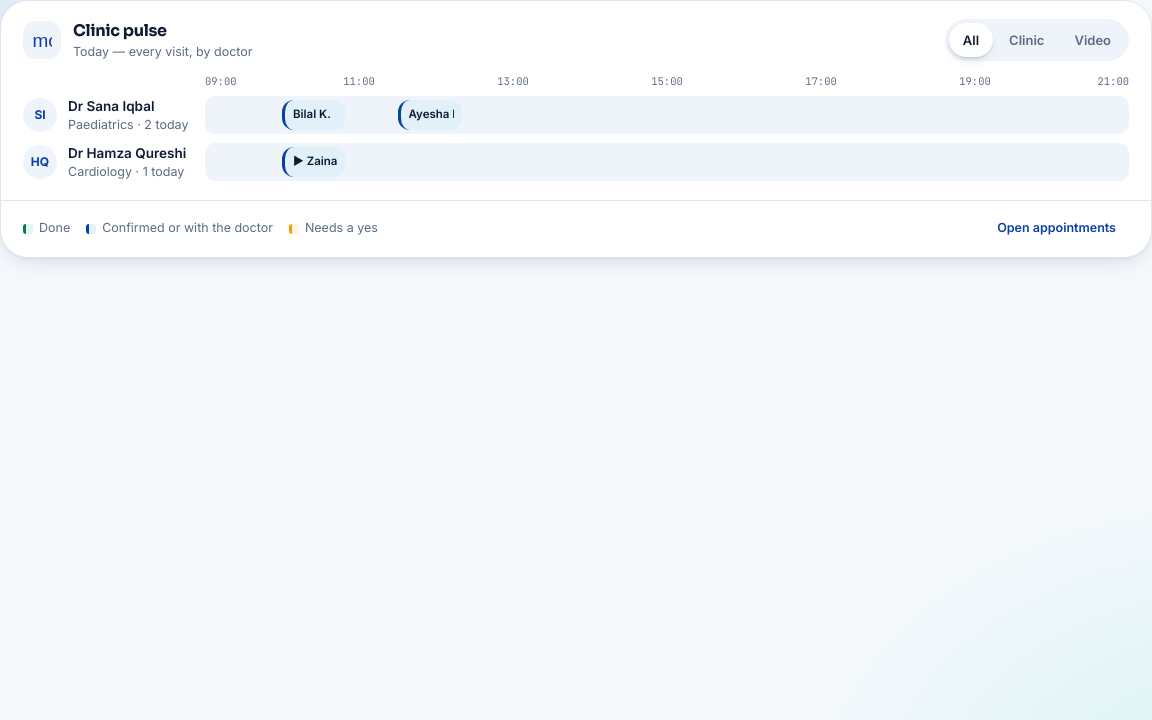
Scenario: ClinicPulse › gives each doctor a lane and each visit its clinic time
Expected: the text "Dr Sana Iqbal" is shown, x1=68 y1=98 x2=154 y2=114
Expected: the text "Dr Hamza Qureshi" is shown, x1=68 y1=143 x2=186 y2=163
// Video only: the clinic visits and their doctor's lane step aside.
Click the button "Video" at (1093, 40), box x1=1060 y1=23 x2=1125 y2=57
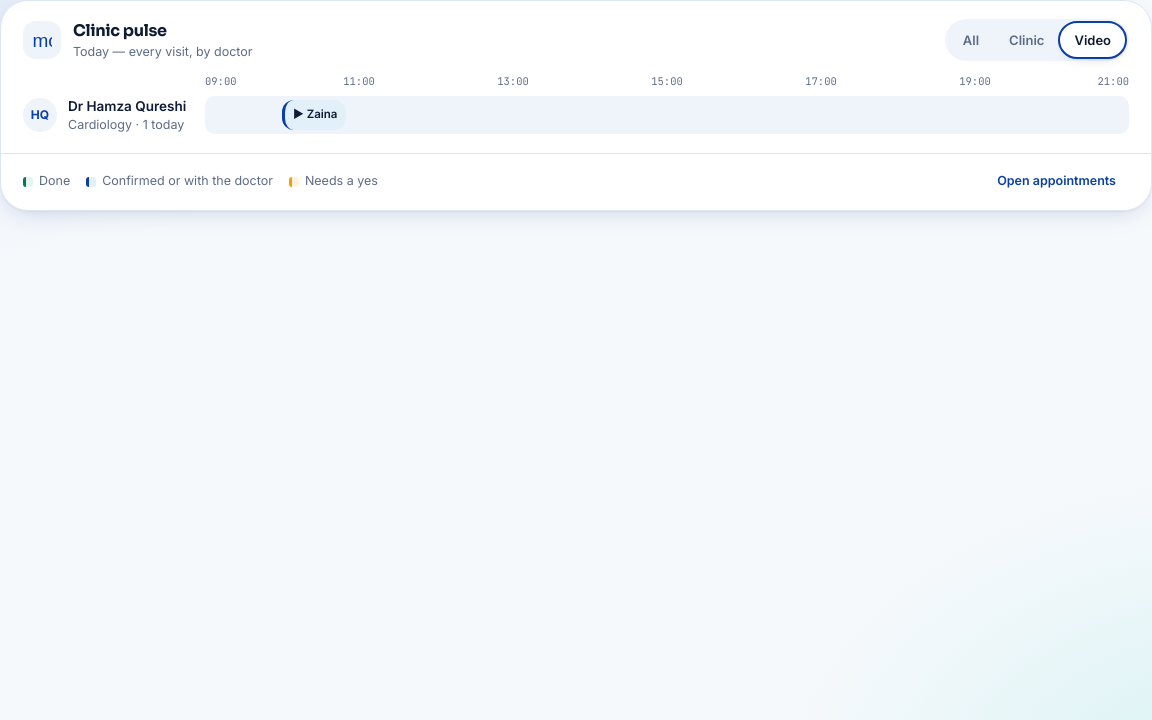
Expected: the link with aria-label "Zainab Ali" is shown, x1=282 y1=100 x2=346 y2=130
Expected: the text "Dr Sana Iqbal" is gone
